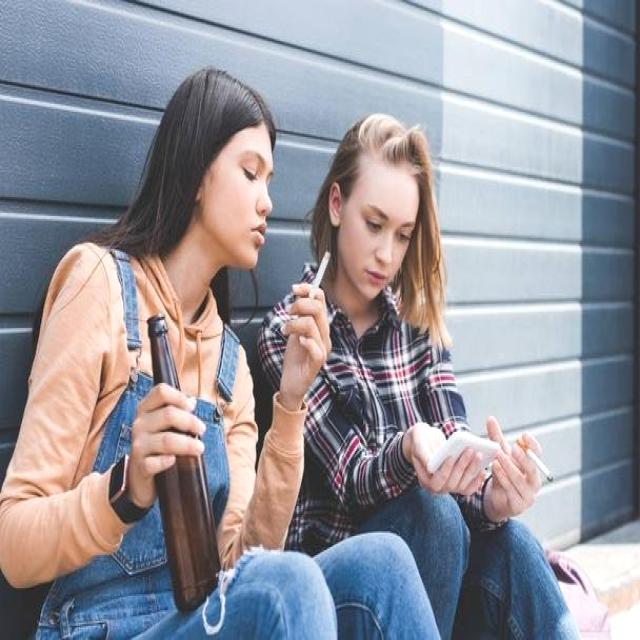smoke: (514, 432, 557, 488), (306, 249, 332, 293)
